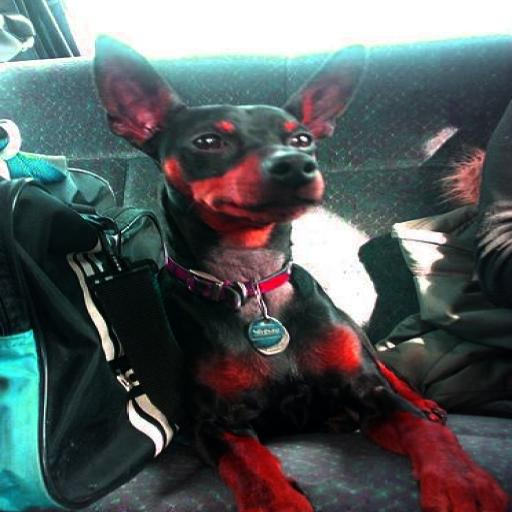dog_face: (87, 29, 366, 242)
